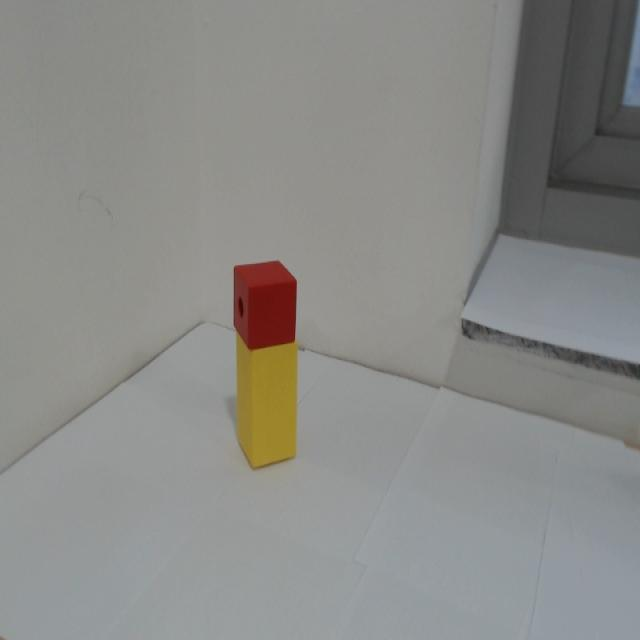cube: (233, 245, 303, 351)
